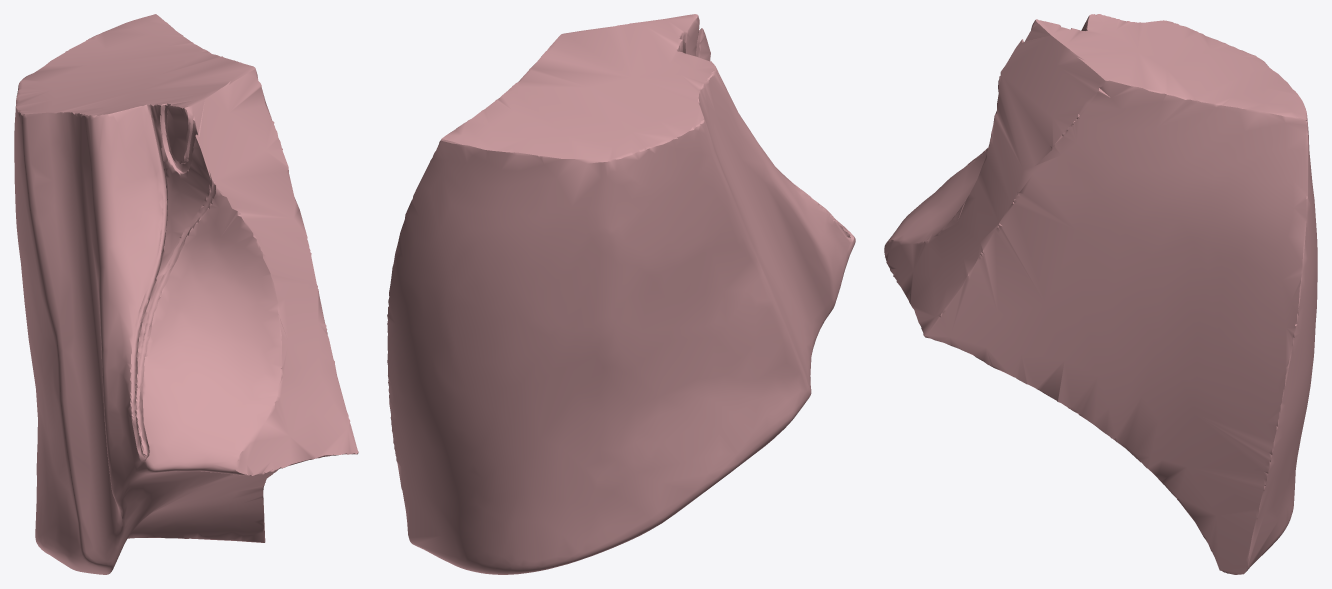
Rendered from fma27394_fj6596.glb.
3 renders of one model, left to right at view 1: azimuth 30°, elevation 25°; view 2: azimuth 150°, elevation 25°; view 3: azimuth 270°, elevation 25°, orthographic. The views are drawn at different scales.
Visible parts, largest first — view 1: FMA27394_FJ6596; view 2: FMA27394_FJ6596; view 3: FMA27394_FJ6596.
Part boxes in pixels (left/top/right/bottom): FMA27394_FJ6596: left=14, top=14, right=358, bottom=574; FMA27394_FJ6596: left=387, top=14, right=855, bottom=574; FMA27394_FJ6596: left=884, top=14, right=1317, bottom=574.
Bounding box in the file's own units: 0.0691 × 0.1152 × 0.0952.
